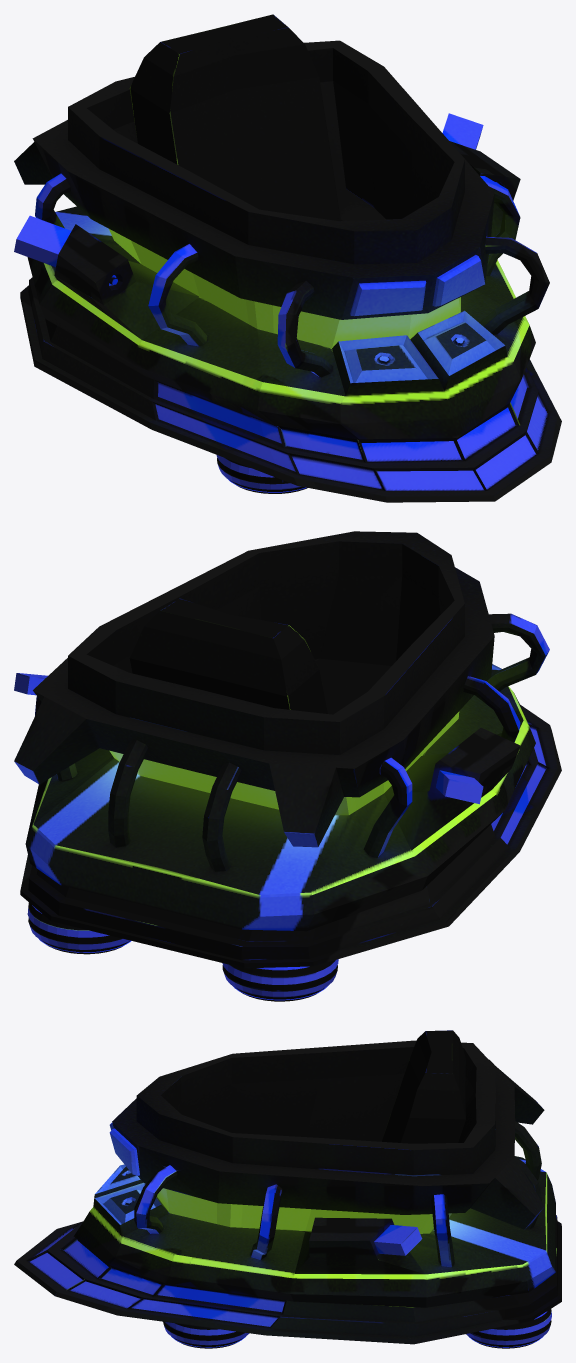
The model's file is Dolly_02.fbx.
3 renders of one model, top to bottom at view 1: azimuth 30°, elevation 25°; view 2: azimuth 150°, elevation 25°; view 3: azimuth 270°, elevation 25°, orthographic. The views are drawn at different scales.
Parts seen in each view (by area): view 1: Dolly; view 2: Dolly; view 3: Dolly.
Boxes of the visible parts, x1=… form: Dolly: x1=14, y1=14, x2=561, y2=502; Dolly: x1=14, y1=531, x2=561, y2=1001; Dolly: x1=14, y1=1030, x2=561, y2=1348.
Size of the model in its own units: 2.72 by 1.74 by 3.5.
